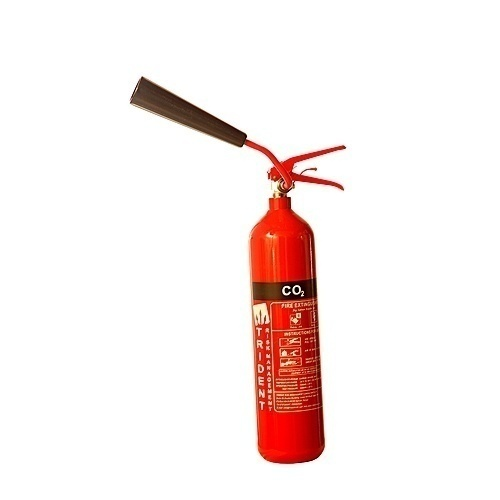fire_extinguisher: (129, 75, 347, 464)
